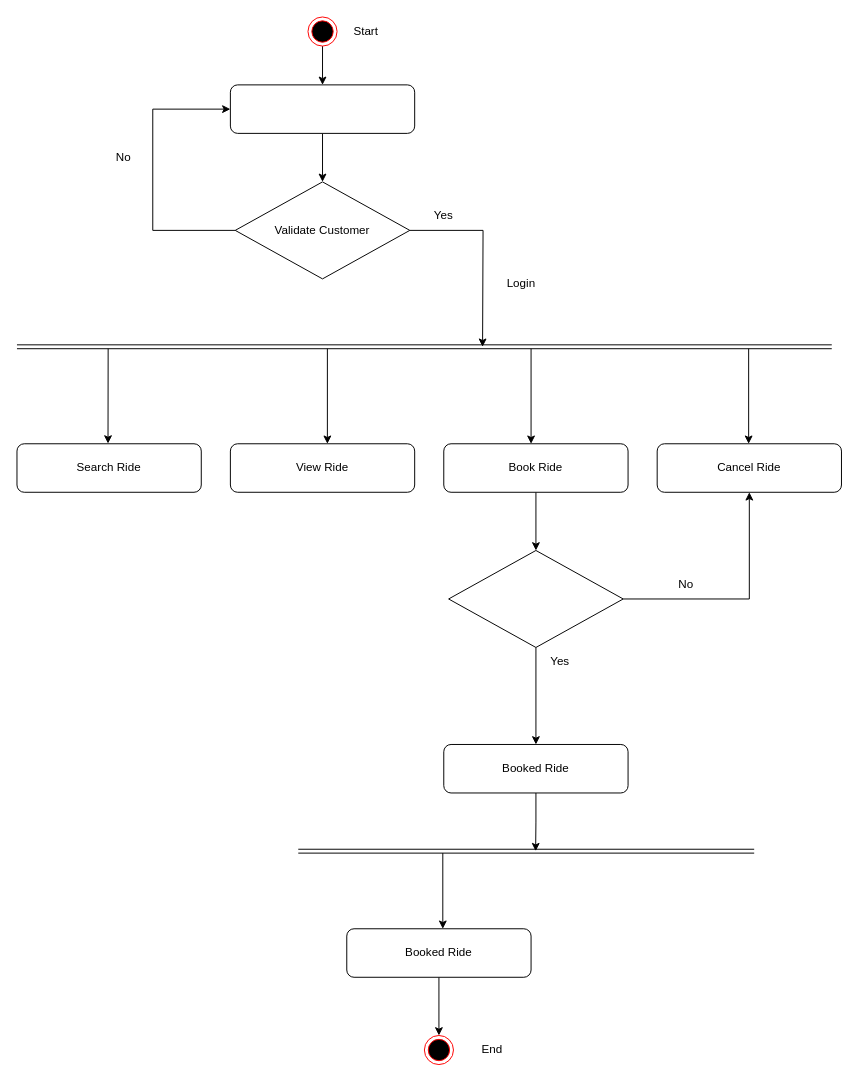
Some shapes in this 858 by 1082 pixel diagram are drawn without their labels. The centre of each missing label's shape, as x and y in pixels:
Check: point 535,598
Customer: point 322,108
